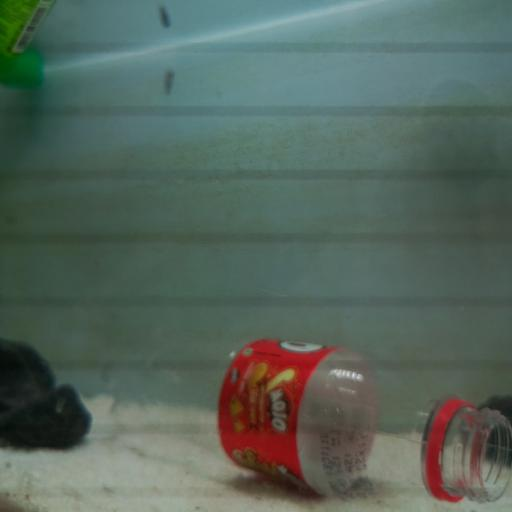plastic_bottle: (106, 331, 512, 502)
